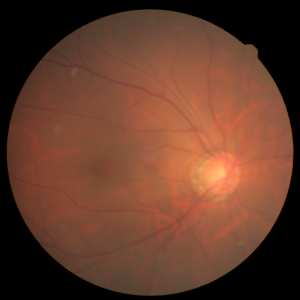cataract: (52, 104, 265, 224)
